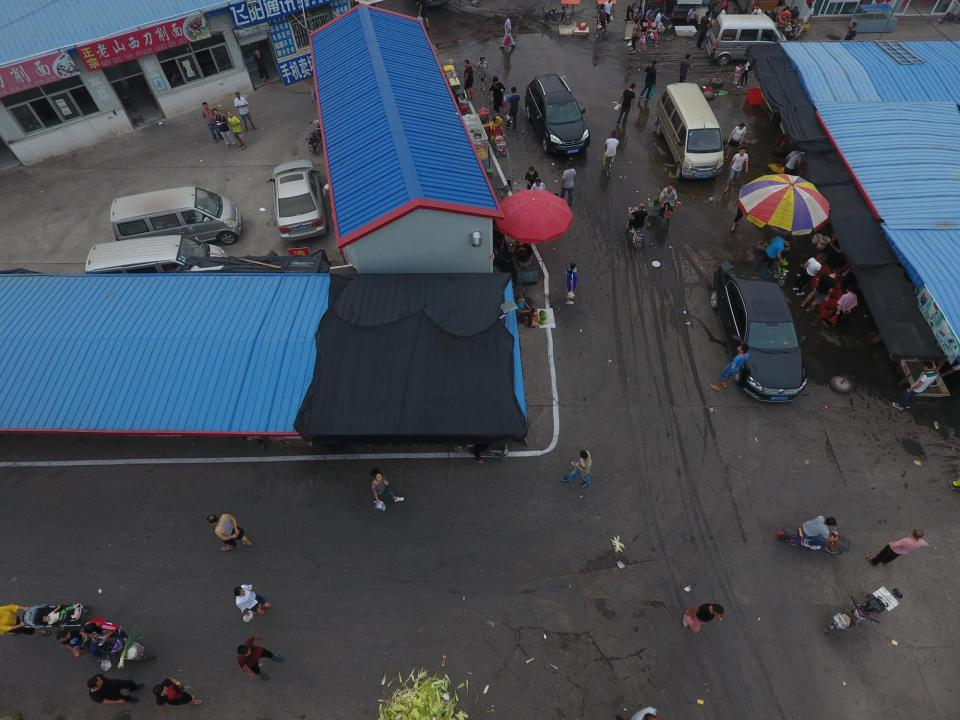car: (710, 260, 808, 403), (526, 74, 592, 154), (266, 160, 327, 242)
van: (110, 186, 242, 245), (84, 234, 227, 284), (656, 83, 724, 180), (706, 14, 789, 65)
